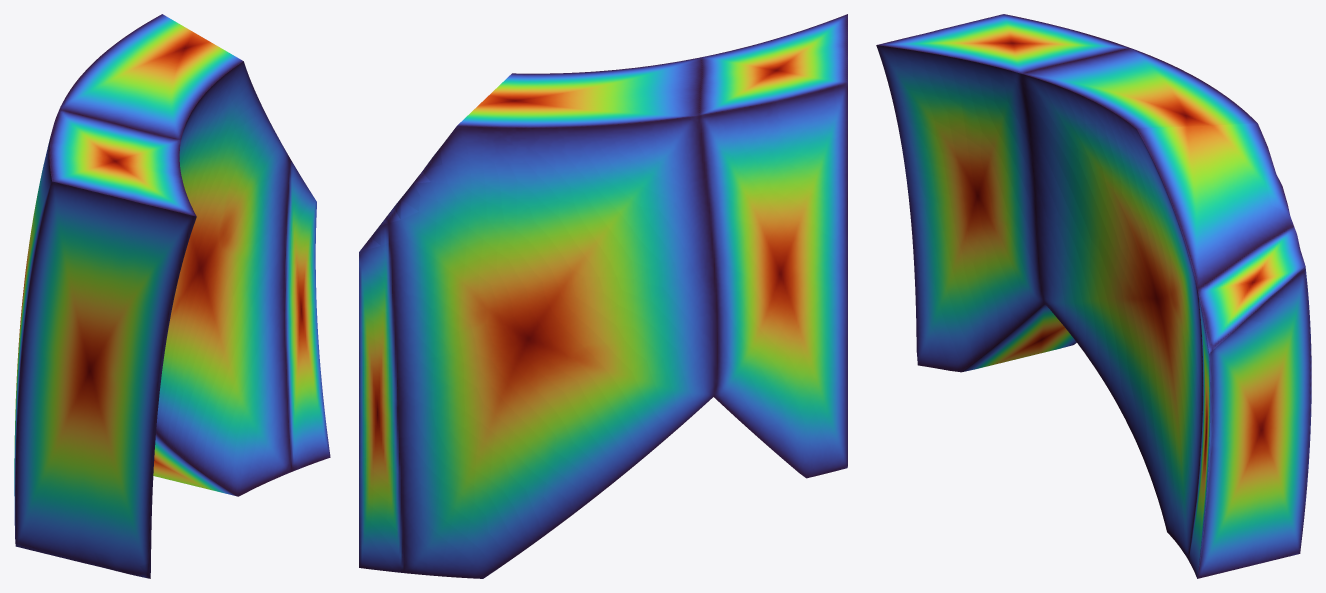
File: gen2.glb
3 renders of one model, left to right at view 1: azimuth 30°, elevation 25°; view 2: azimuth 150°, elevation 25°; view 3: azimuth 270°, elevation 25°, orthographic. The views are drawn at different scales.
Parts seen in each view (by area): view 1: Node; view 2: Node; view 3: Node.
Part boxes in pixels (<box>): Node: <box>14,14,330,578</box>; Node: <box>359,14,847,578</box>; Node: <box>876,14,1311,578</box>.
Size of the model in its own units: 70.72 by 75 by 74.39.
Materials: 1 (1 with a texture image).
